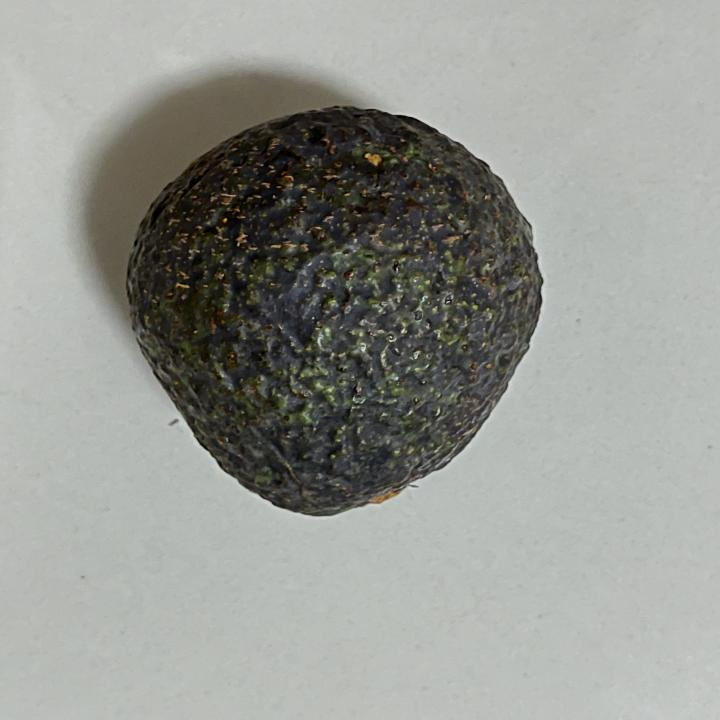Level2: (117, 98, 554, 522)
